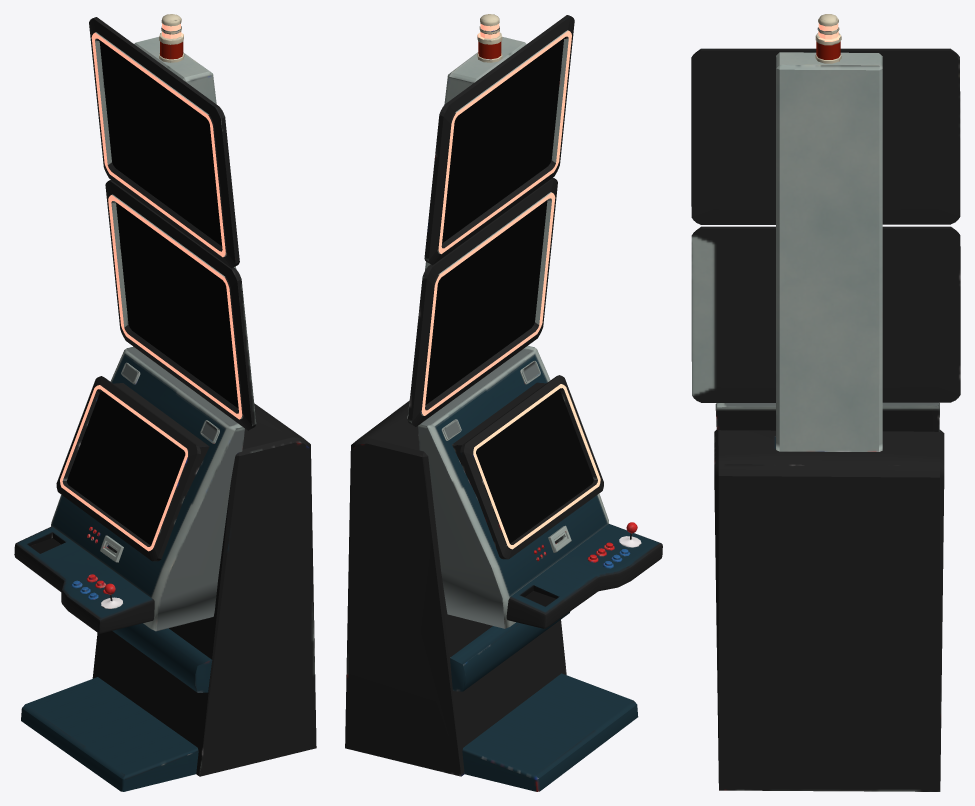
Rendered from Slot_03.fbx.
The picture shows the model from 3 angles, left to right: view 1: azimuth 30°, elevation 25°; view 2: azimuth 150°, elevation 25°; view 3: azimuth 270°, elevation 25°; orthographic projection. The views are drawn at different scales.
Visible parts, largest first — view 1: Machine; view 2: Machine; view 3: Machine.
Boxes of the visible parts, bbox=[...] form: Machine: bbox=[14, 14, 316, 791]; Machine: bbox=[345, 14, 662, 791]; Machine: bbox=[691, 14, 960, 791].
Size of the model in its own units: 76.2 by 243 by 81.19.
Materials: 3 (1 with a texture image).
